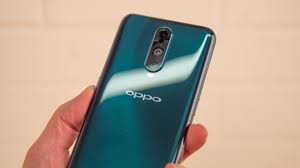oppo: (67, 12, 219, 168)
